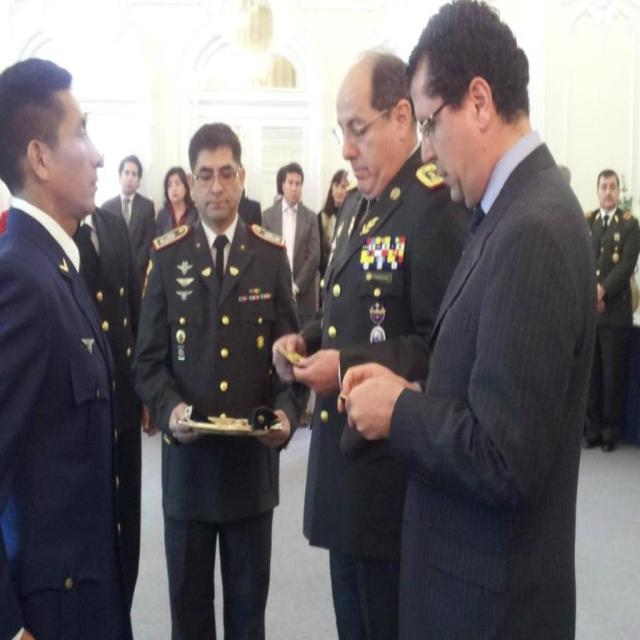no_helmet: (406, 78, 538, 130), (92, 165, 168, 205), (7, 121, 82, 161), (138, 178, 213, 218), (174, 160, 248, 200), (338, 117, 412, 157), (584, 186, 627, 214)
